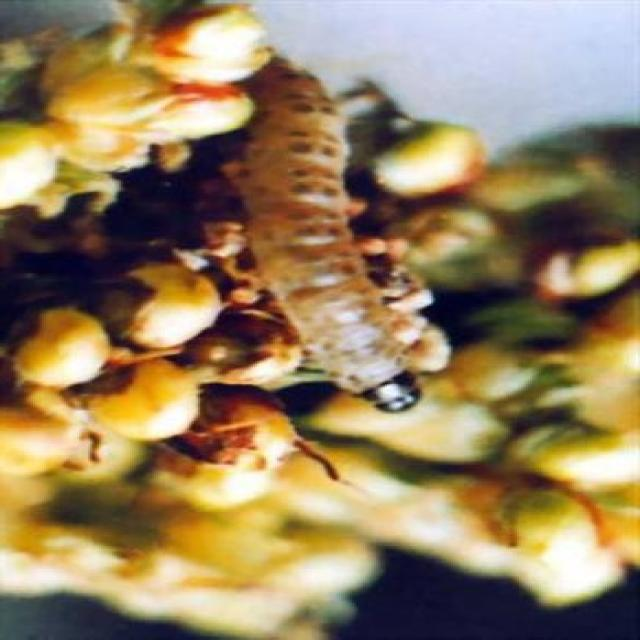peach borer: (262, 52, 422, 423)
